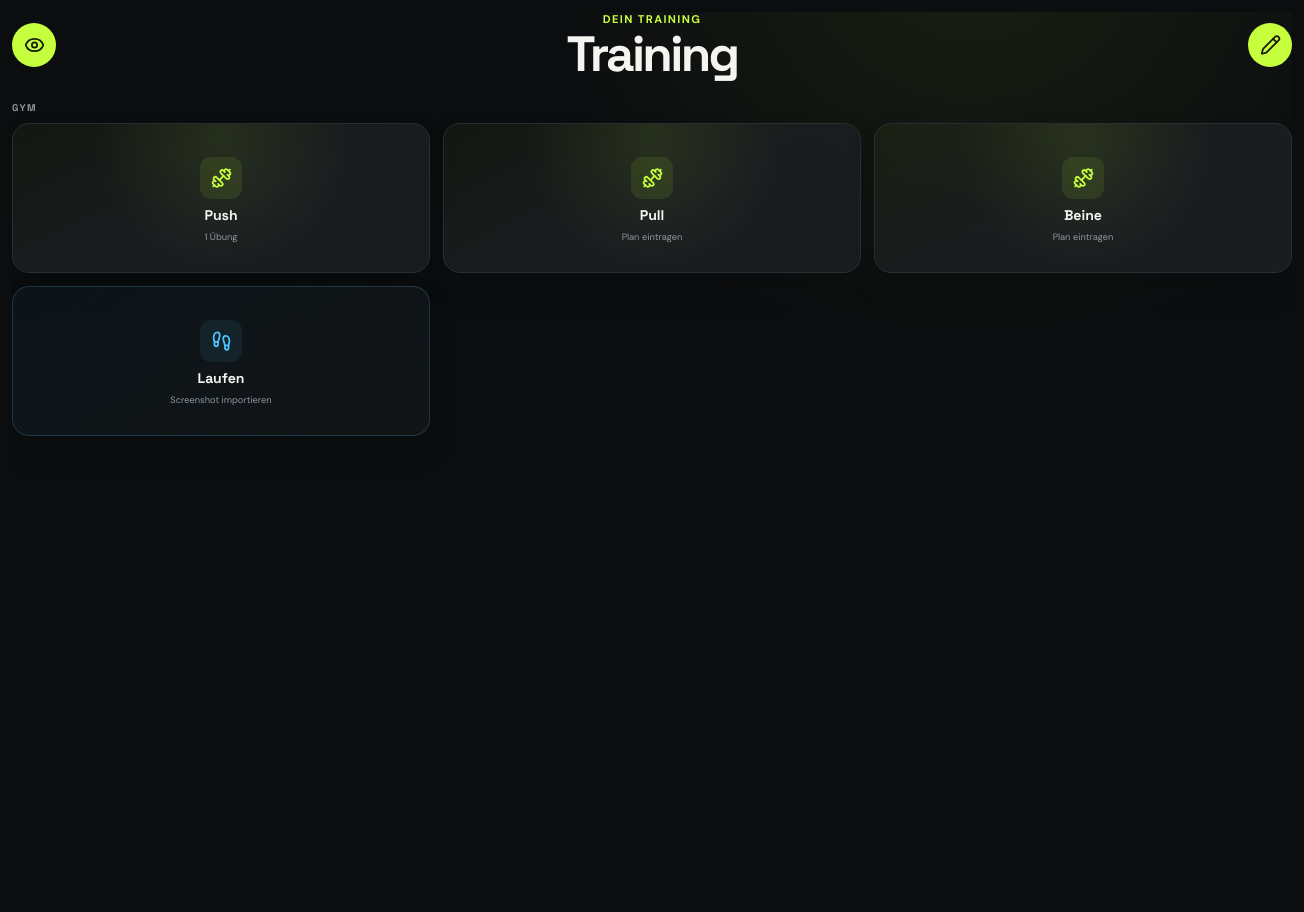
Test: GYM-Workflow › unterstützt Legacy-Historie über die stabile Template-Übung, aber verbindet nicht nur nach Namen
Click the button named "Trainingsverlauf öffnen".
click(34, 45)  # box [12,23,56,67]
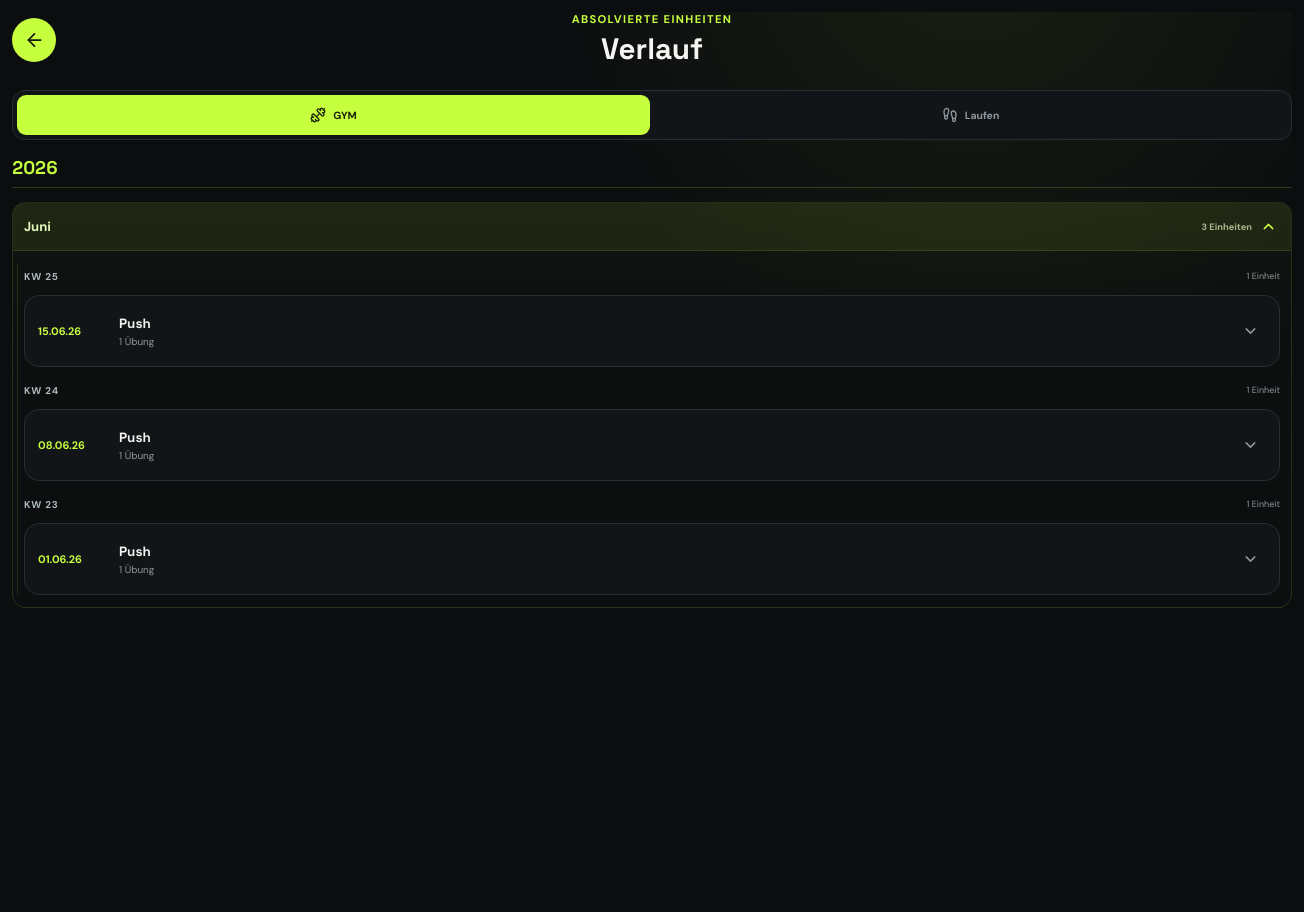
Click the button "08.06.26 Push 1 Übung".
click(61, 445)  # box [25,410,1279,480]
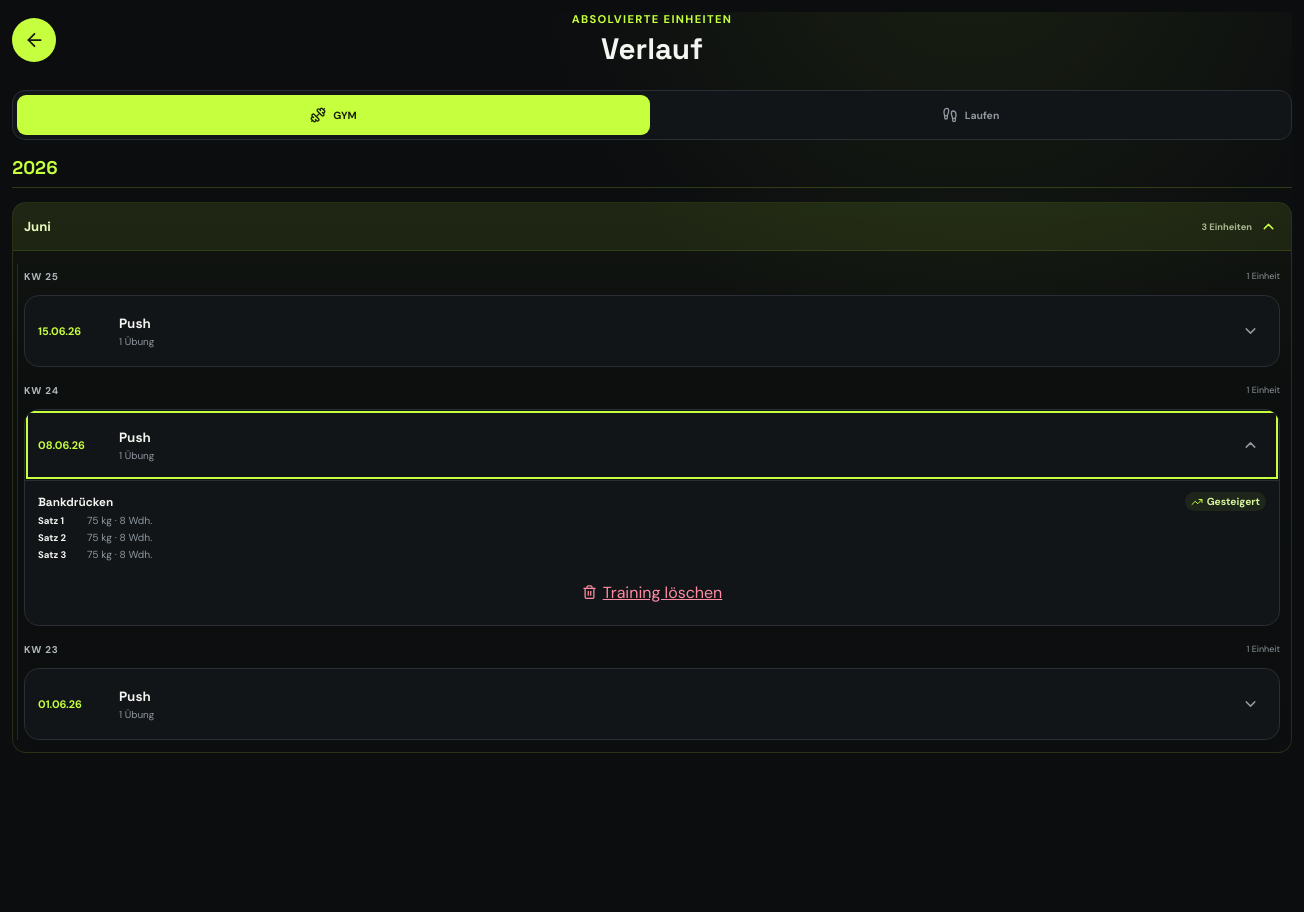
Expected: the text "Gesteigert" is shown, [1207,495,1260,508]
Click the button "15.06.26 Push 1 Übung".
click(60, 331)  # box [25,296,1279,366]
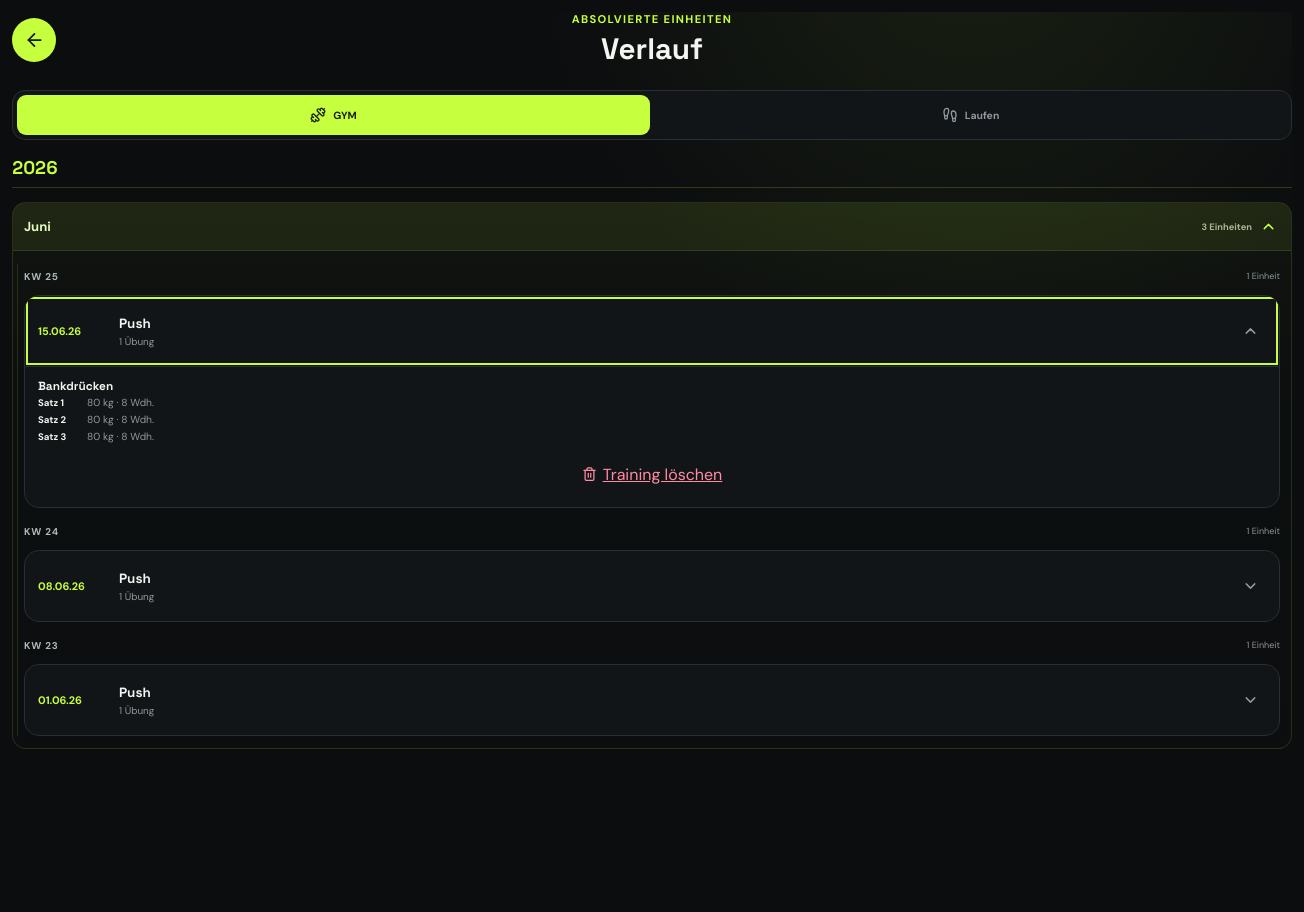
Expected: the text "Gesteigert" is gone
